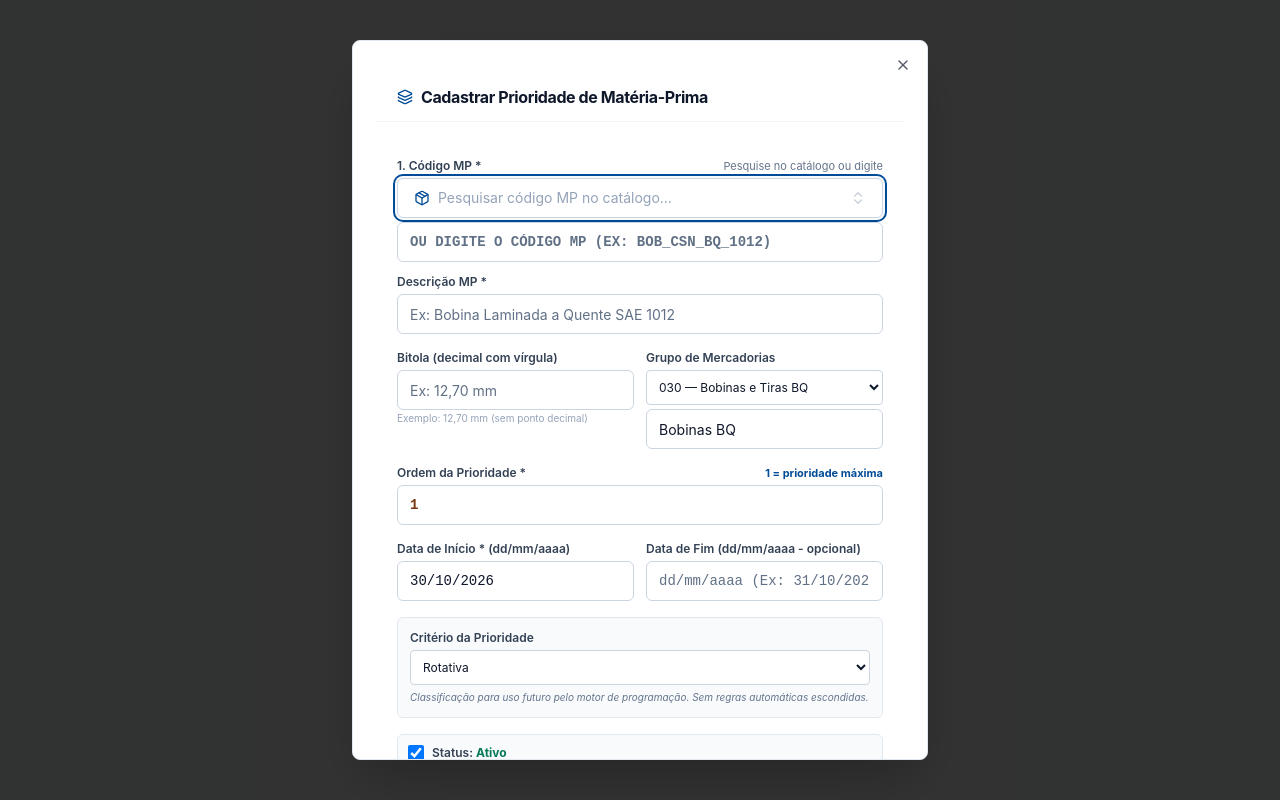
Test: Prioridades de Matéria-Prima — 13 Critérios de Aceite › Critério da prioridade "Outro" exige descrição customizada
Select "Outro" in the dropdown with test id "select-raw-material-criterion" at coordinates (640, 668), box [410,650,870,685]
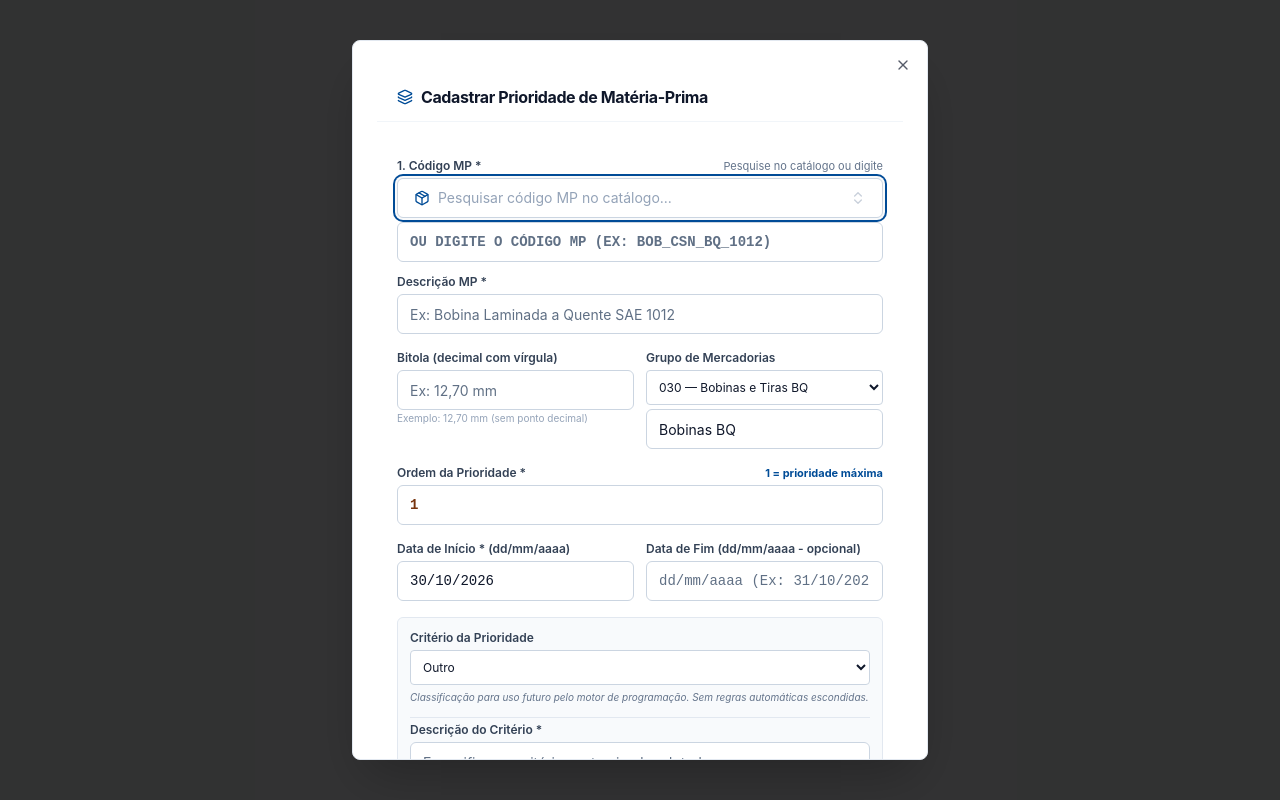
Type "BOB_TESTE" into the field with test id "input-raw-material-code".
click(640, 242); type("BOB_TESTE")  # box [397,222,883,262]
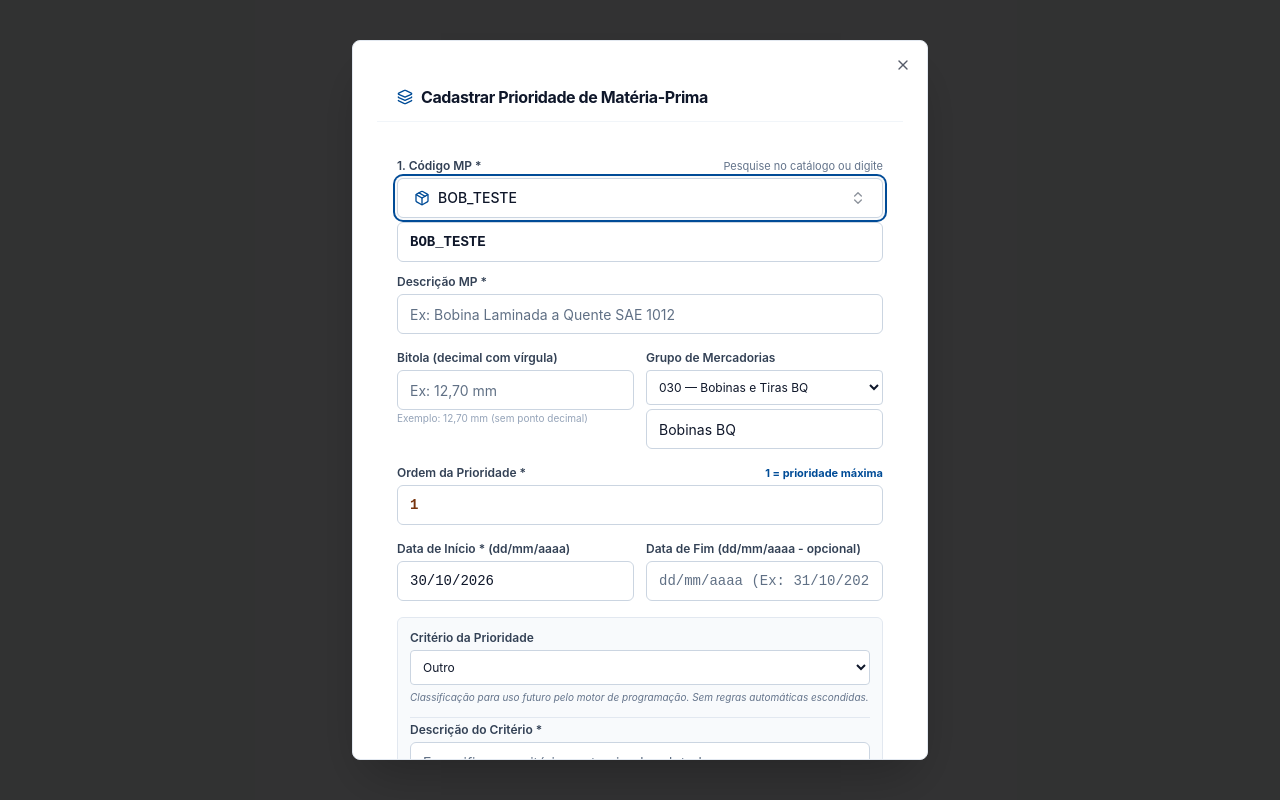
Type "Teste Desc" into the field with test id "input-raw-material-desc".
click(640, 314); type("Teste Desc")  # box [397,294,883,334]
(page scrolled)
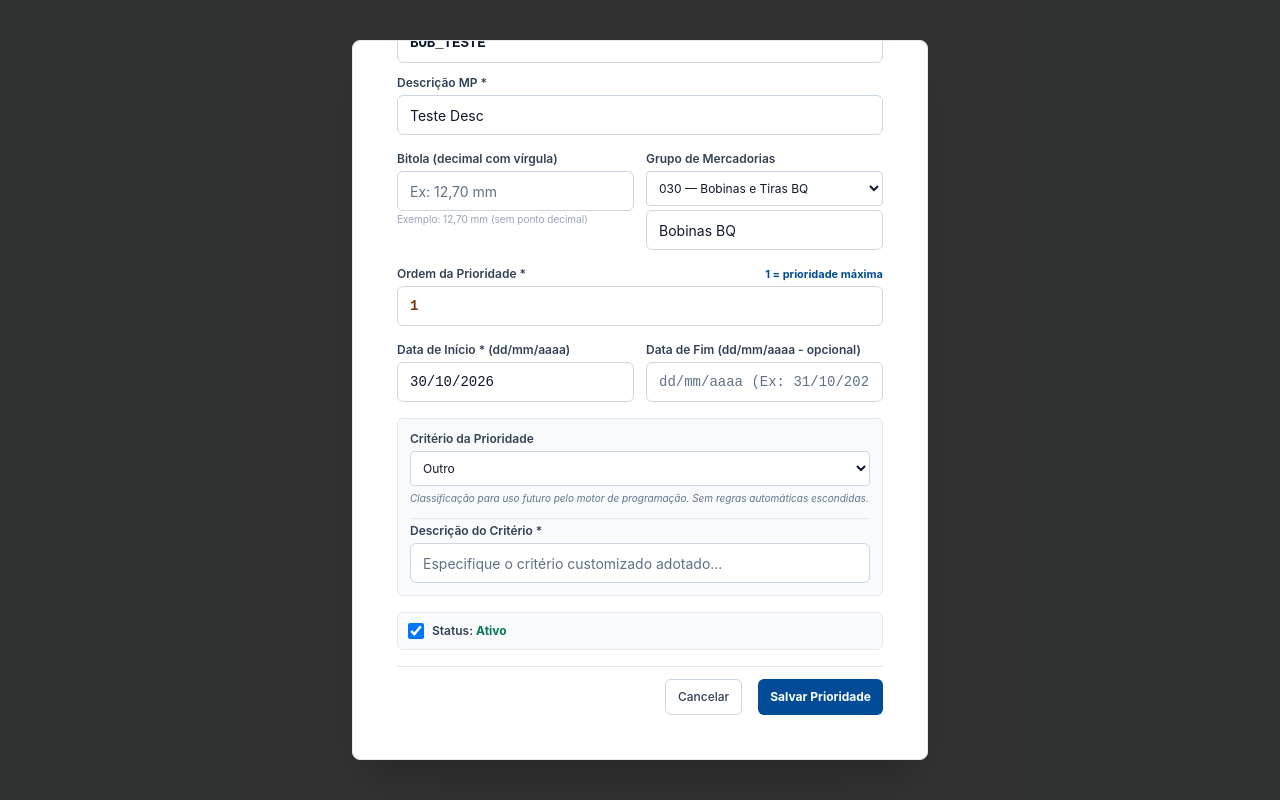
Click the button with test id "modal-save-btn".
click(821, 697)  # box [758,679,883,715]
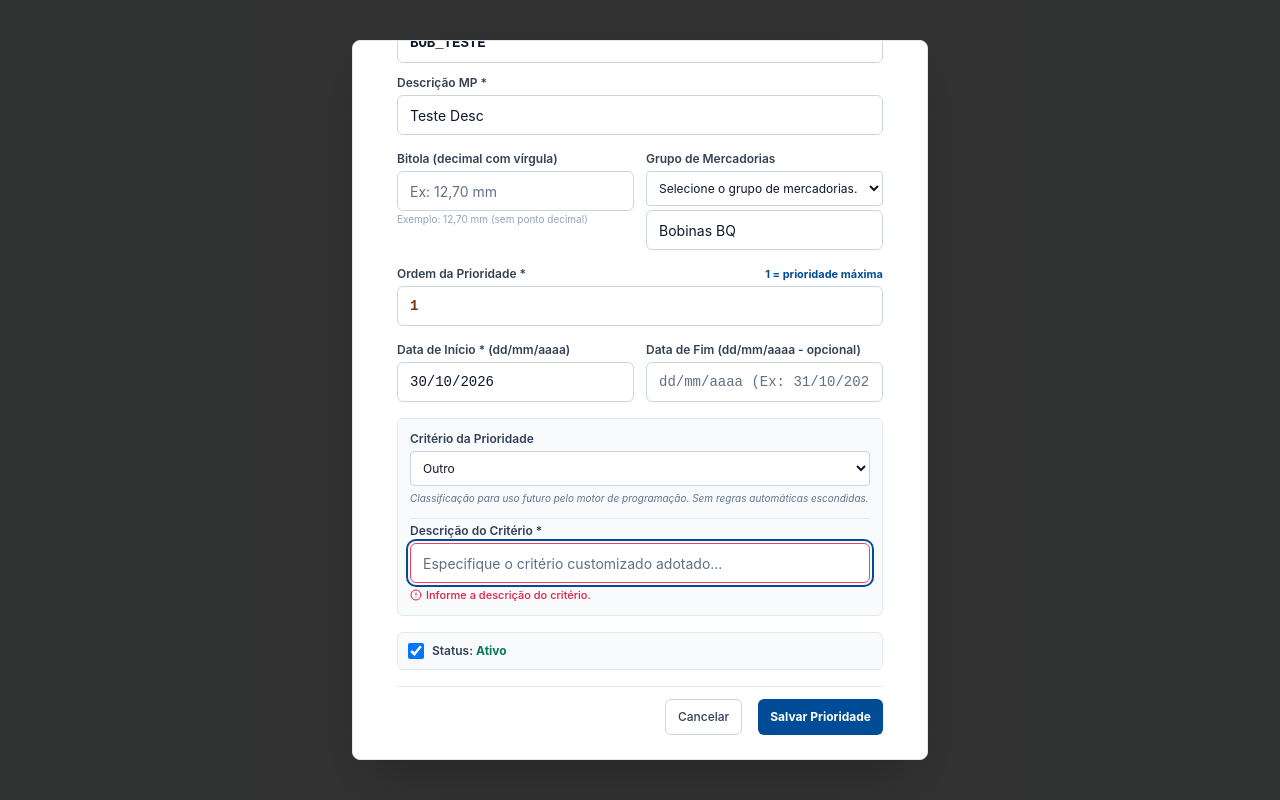
Expected: the text "Informe a descrição do critério." is shown, [410,588,591,602]
